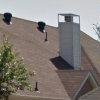Chimney: (47, 8, 90, 70)
